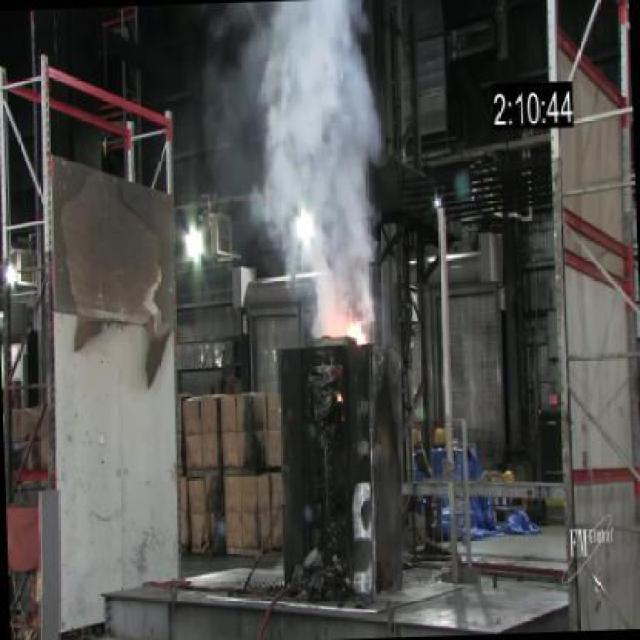fire: (248, 0, 384, 314)
smoke: (343, 318, 368, 350)
